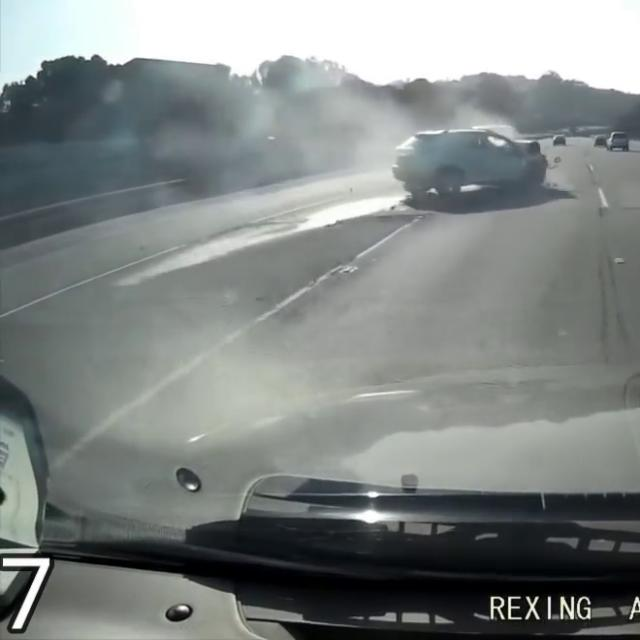accident: (368, 134, 558, 212)
